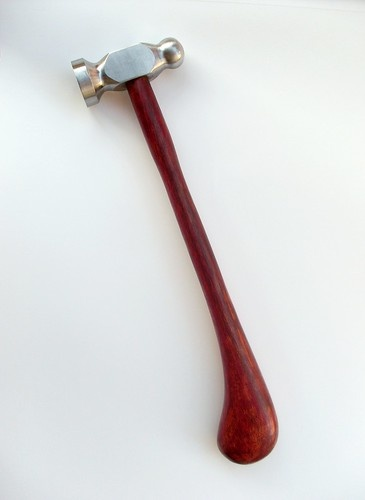hammer: (70, 35, 280, 465)
